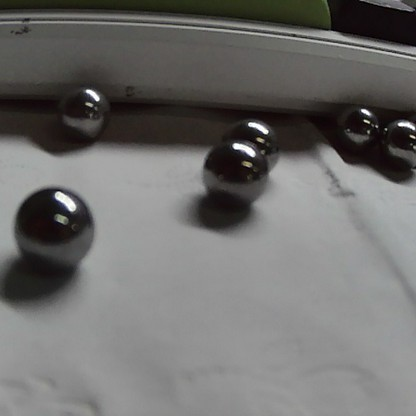ironball: (5, 180, 94, 279), (191, 138, 271, 211), (59, 74, 102, 131), (339, 97, 379, 147), (226, 115, 272, 154), (384, 110, 414, 163)
